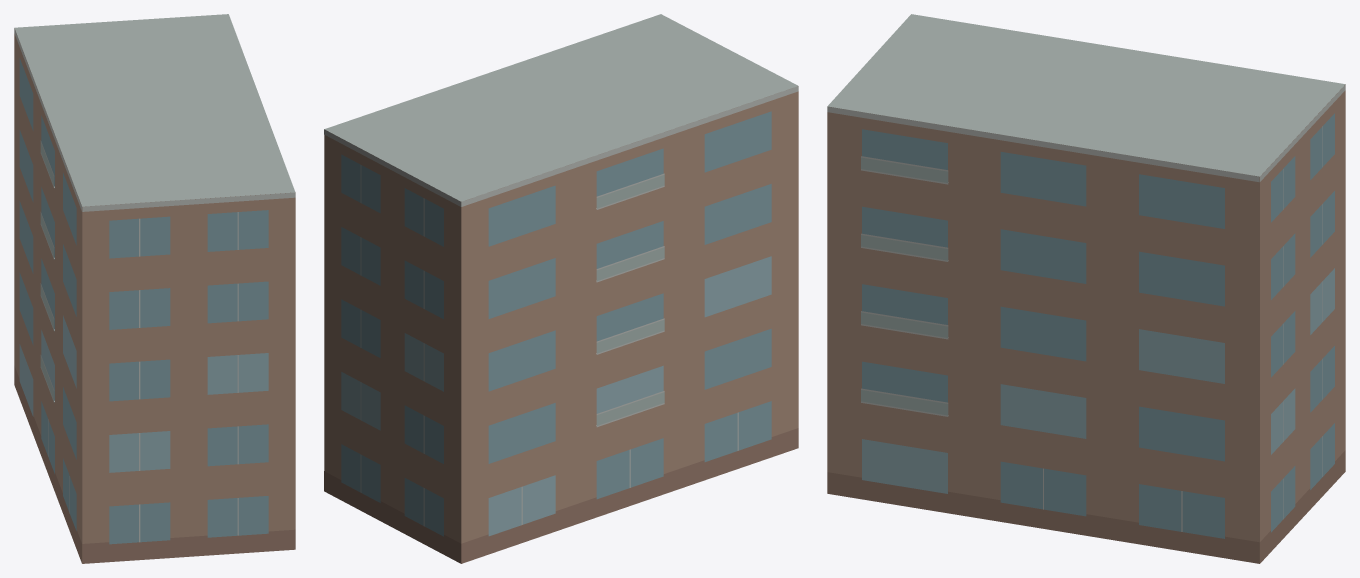
The model's file is survey-upis-32870162.glb.
The picture shows the model from 3 angles, left to right: view 1: azimuth 30°, elevation 25°; view 2: azimuth 150°, elevation 25°; view 3: azimuth 270°, elevation 25°; orthographic projection. The views are drawn at different scales.
Visible parts, largest first — view 1: survey-upis-32870162.tmp; view 2: survey-upis-32870162.tmp; view 3: survey-upis-32870162.tmp.
Part boxes in pixels (x1=…): survey-upis-32870162.tmp: x1=14, y1=14, x2=295, y2=563; survey-upis-32870162.tmp: x1=324, y1=14, x2=798, y2=563; survey-upis-32870162.tmp: x1=827, y1=14, x2=1345, y2=563.
Size of the model in its own units: 14.87 by 16.5 by 20.03.
